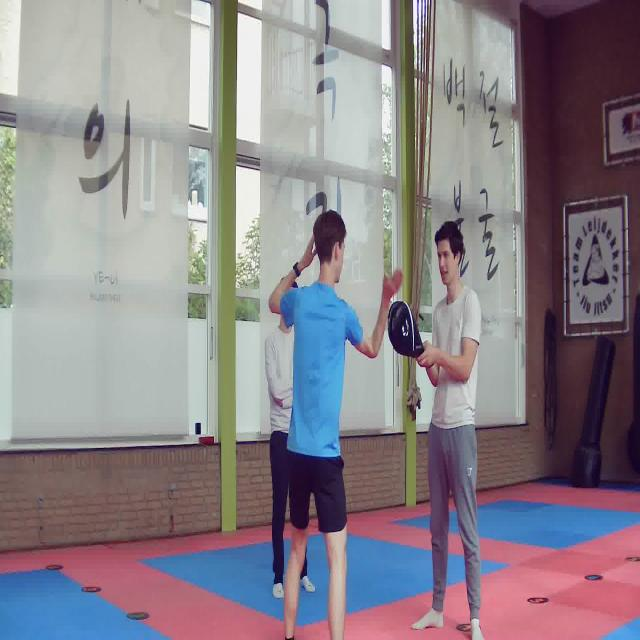paddle: (388, 301, 424, 358)
